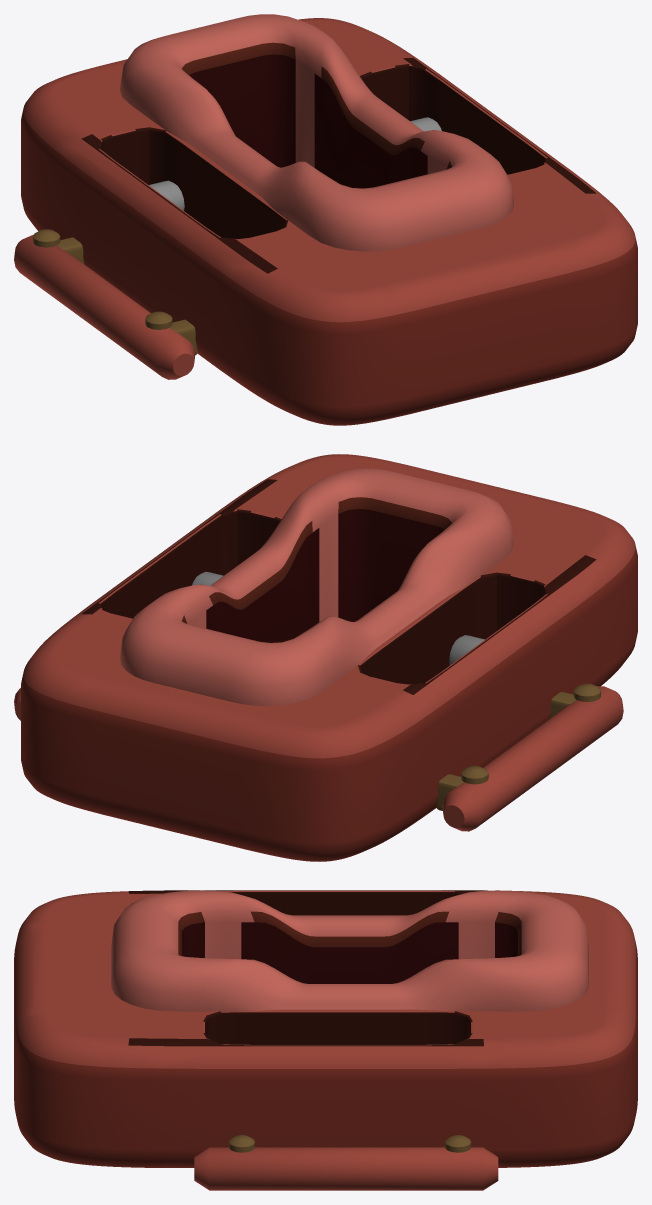
File: red_furnace_269.glb
3 renders of one model, top to bottom at view 1: azimuth 30°, elevation 25°; view 2: azimuth 150°, elevation 25°; view 3: azimuth 270°, elevation 25°, orthographic. The views are drawn at different scales.
Parts seen in each view (by area): view 1: housing, rim, rail1; view 2: housing, rim, rail1; view 3: housing, rim, rail-1.
Boxes of the visible parts, x1,y1,x2,y2 form: housing: (21,18,637,425); rim: (120,14,513,251); rail1: (14,234,195,379); housing: (21,454,637,861); rim: (119,468,513,705); rail1: (442,686,623,831); housing: (14,890,637,1167); rim: (111,890,588,1011); rail-1: (194,1147,498,1190).
Size of the model in its own units: 21.6 by 7.6 by 25.98.
